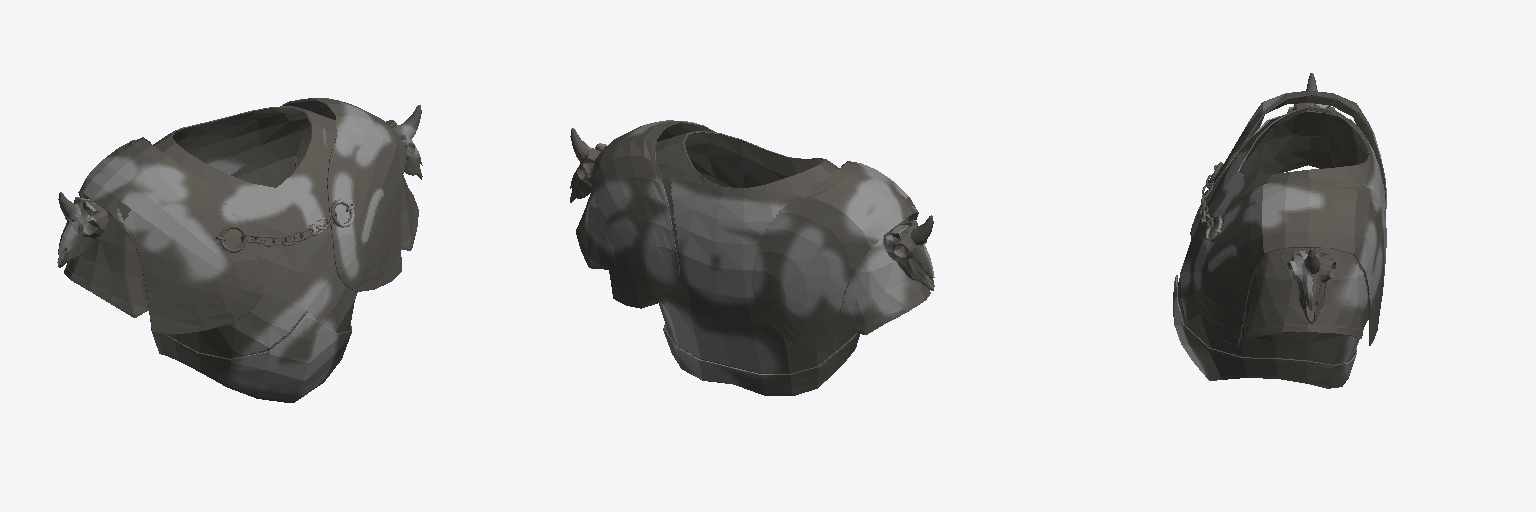
3 views of the same model, side by side, from view 1: azimuth 30°, elevation 25°; view 2: azimuth 150°, elevation 25°; view 3: azimuth 270°, elevation 25° (orthographic).
Visible parts, largest first — view 1: 06; view 2: 06; view 3: 06.
Boxes of the visible parts, x1,y1,x2,y2 form: 06: [57, 98, 422, 402]; 06: [570, 120, 934, 395]; 06: [1173, 73, 1386, 388].
Size of the model in its own units: 2.21 by 1.38 by 1.12.
Materials: 1 (1 with a texture image).